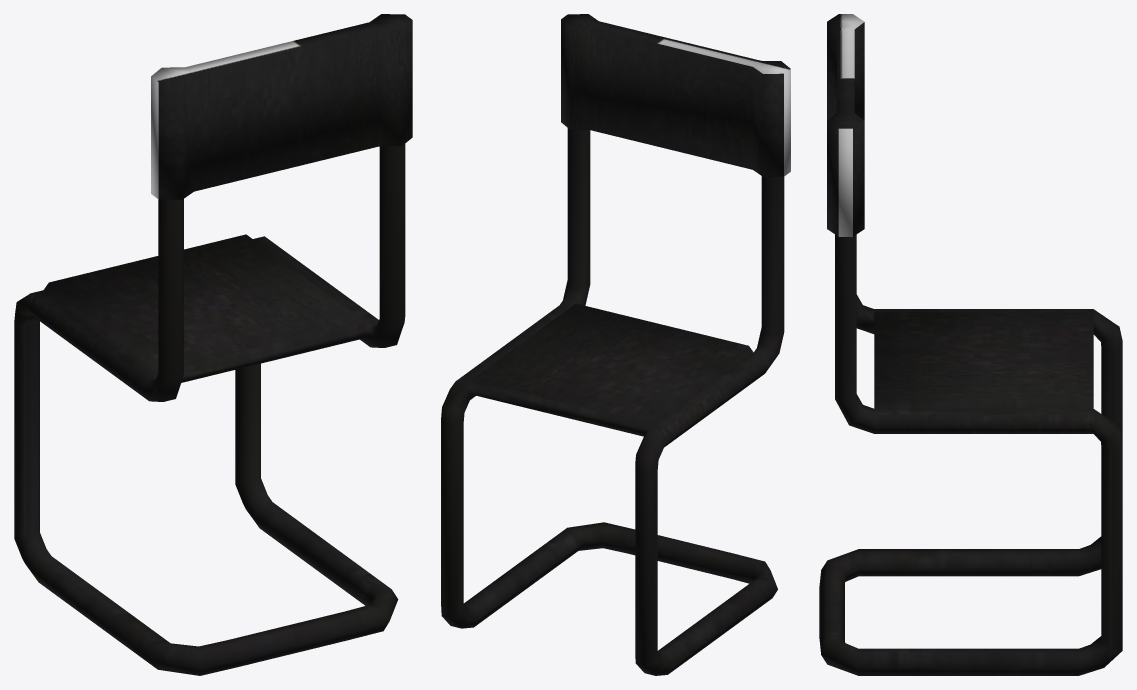
Rendered from silla.obj.
The picture shows the model from 3 angles, left to right: view 1: azimuth 30°, elevation 25°; view 2: azimuth 150°, elevation 25°; view 3: azimuth 270°, elevation 25°; orthographic projection. The views are drawn at different scales.
Visible parts, largest first — view 1: Cylinder01; view 2: Cylinder01; view 3: Cylinder01.
Part boxes in pixels (box(x1,y1,x2,y2)): Cylinder01: box(14, 14, 412, 675); Cylinder01: box(441, 14, 790, 675); Cylinder01: box(819, 14, 1122, 675).
Size of the model in its own units: 1.32 by 2.98 by 1.48.
Materials: 1 (1 with a texture image).
